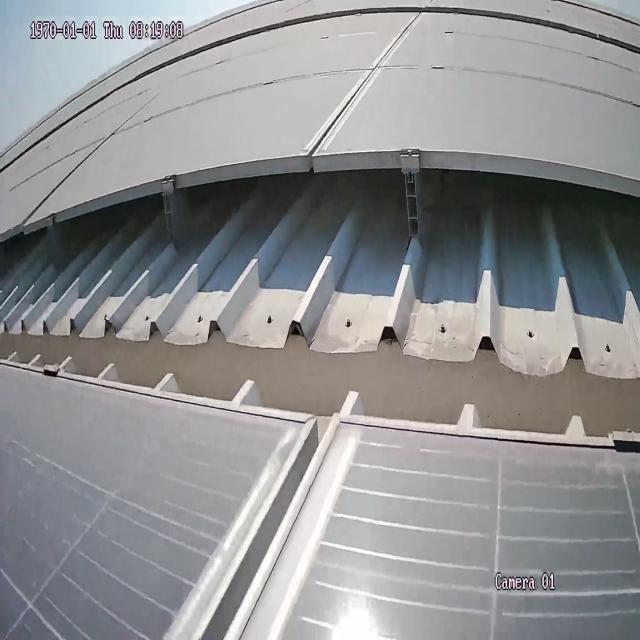interior panel: (170, 431, 340, 636), (311, 14, 425, 148)
outher panel: (0, 158, 638, 449)
